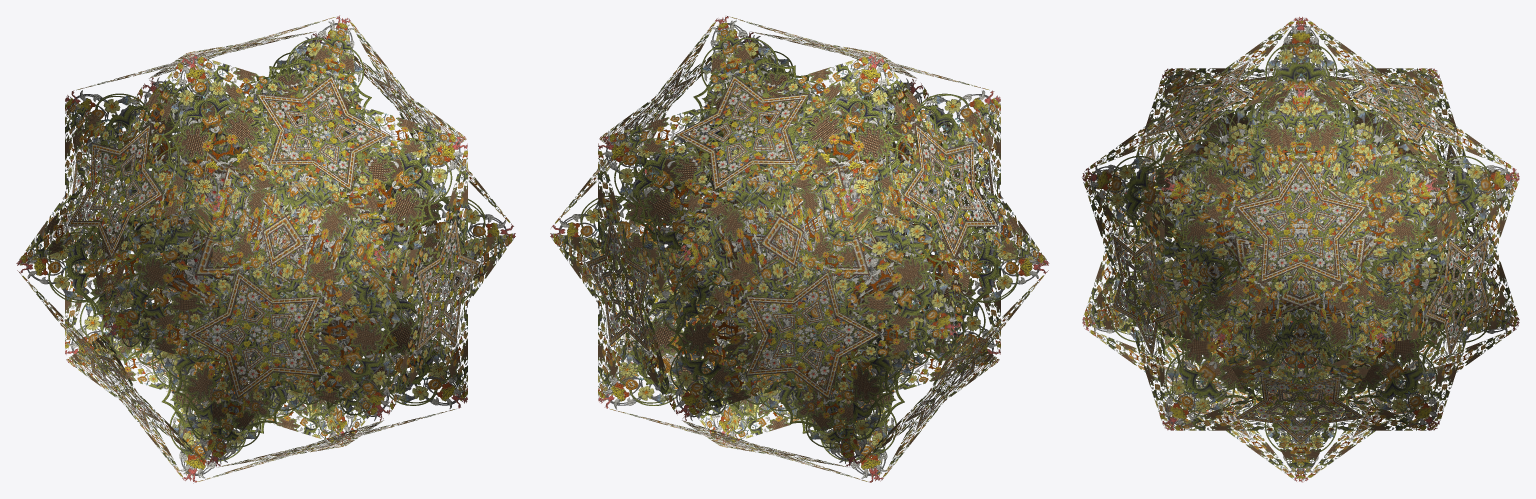
File: 7DitrigonalDodecadodecahedron.gltf
The picture shows the model from 3 angles, left to right: view 1: azimuth 30°, elevation 25°; view 2: azimuth 150°, elevation 25°; view 3: azimuth 270°, elevation 25°; orthographic projection. The views are drawn at different scales.
Parts seen in each view (by area): view 1: DitrigonalDodecadodecahedron8; view 2: DitrigonalDodecadodecahedron8; view 3: DitrigonalDodecadodecahedron8.
Boxes of the visible parts, box(x1,y1,x2,y2) form: DitrigonalDodecadodecahedron8: box(16, 15, 515, 483); DitrigonalDodecadodecahedron8: box(550, 16, 1049, 482); DitrigonalDodecadodecahedron8: box(1082, 17, 1519, 482).
Bounding box in the file's own units: 1.62 × 1.62 × 1.62.
Materials: 1 (1 with a texture image).
